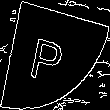P_N: (35, 26, 75, 84)
